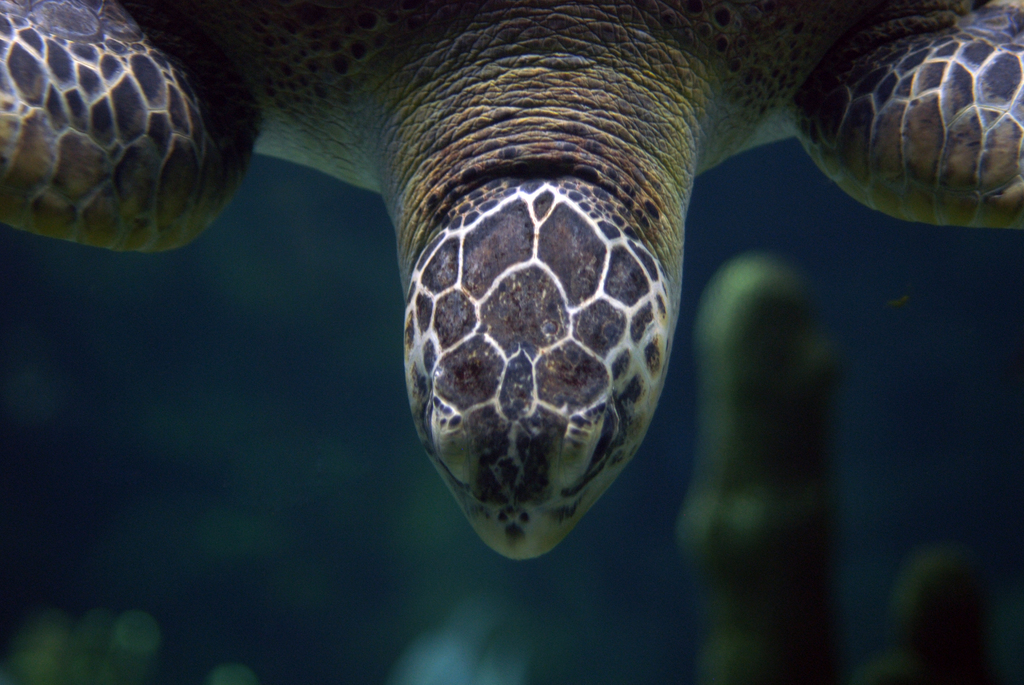Sea turtles: (0, 0, 1024, 559)
